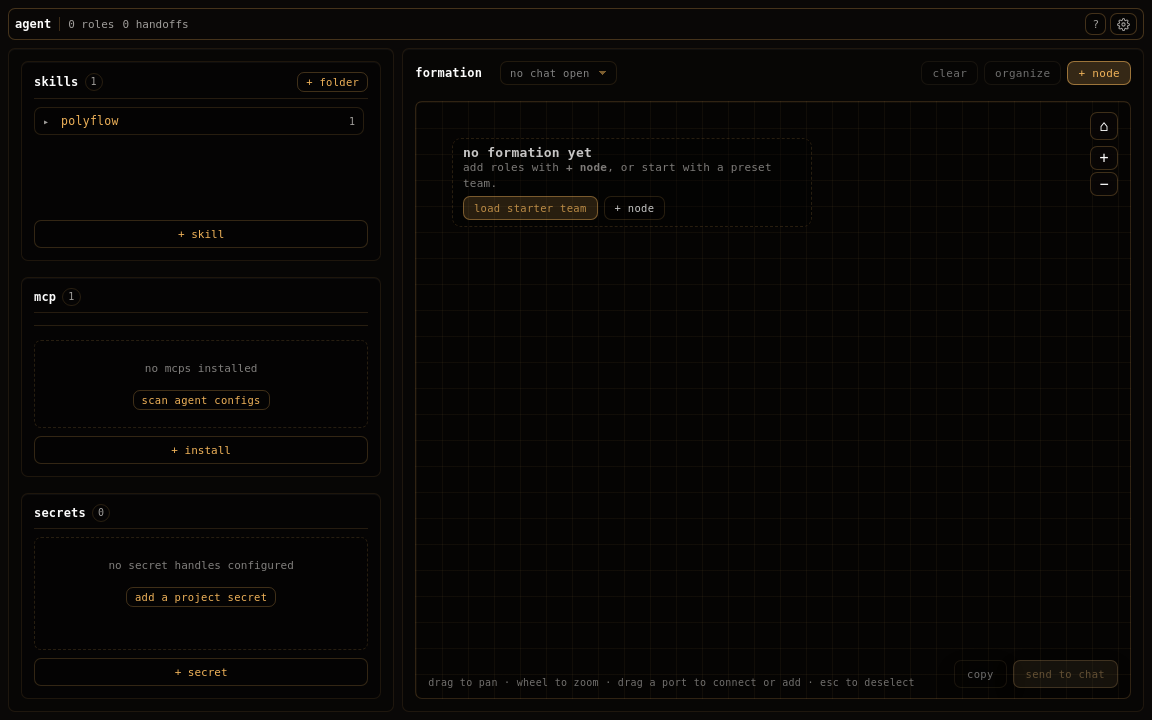
Test: AgentPanel integration › skill_editor_renders_instruction_body_on_open
Step 1. Click the button "▸ polyflow 1" → (90, 121), box [35,108,363,134]
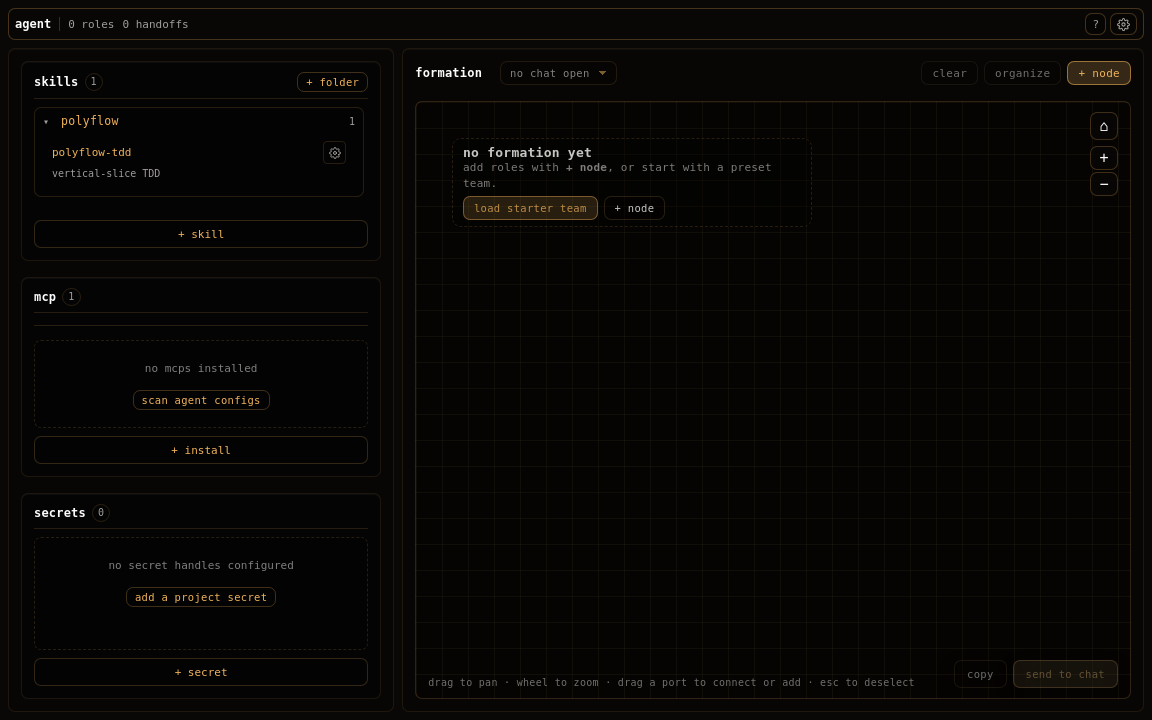
Step 2. Click the text "polyflow-tdd" → (92, 152), box [52,146,132,159]
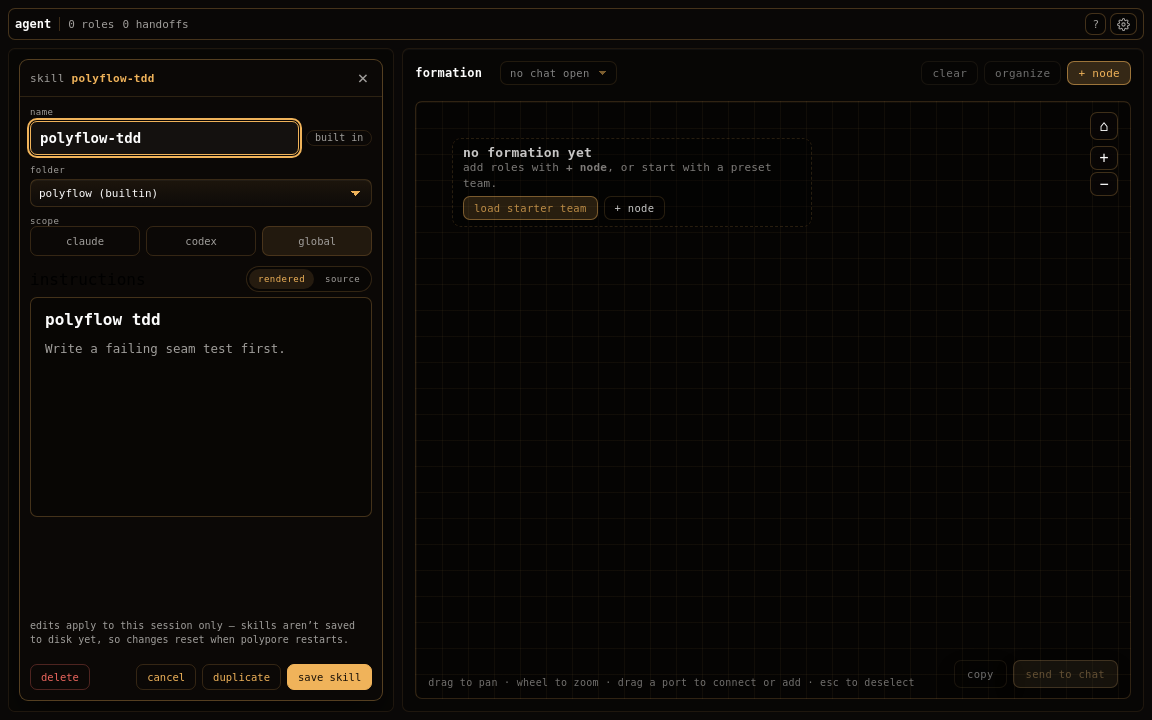
Expected: the text "Write a failing seam test first." is shown, [45,341,286,356]
